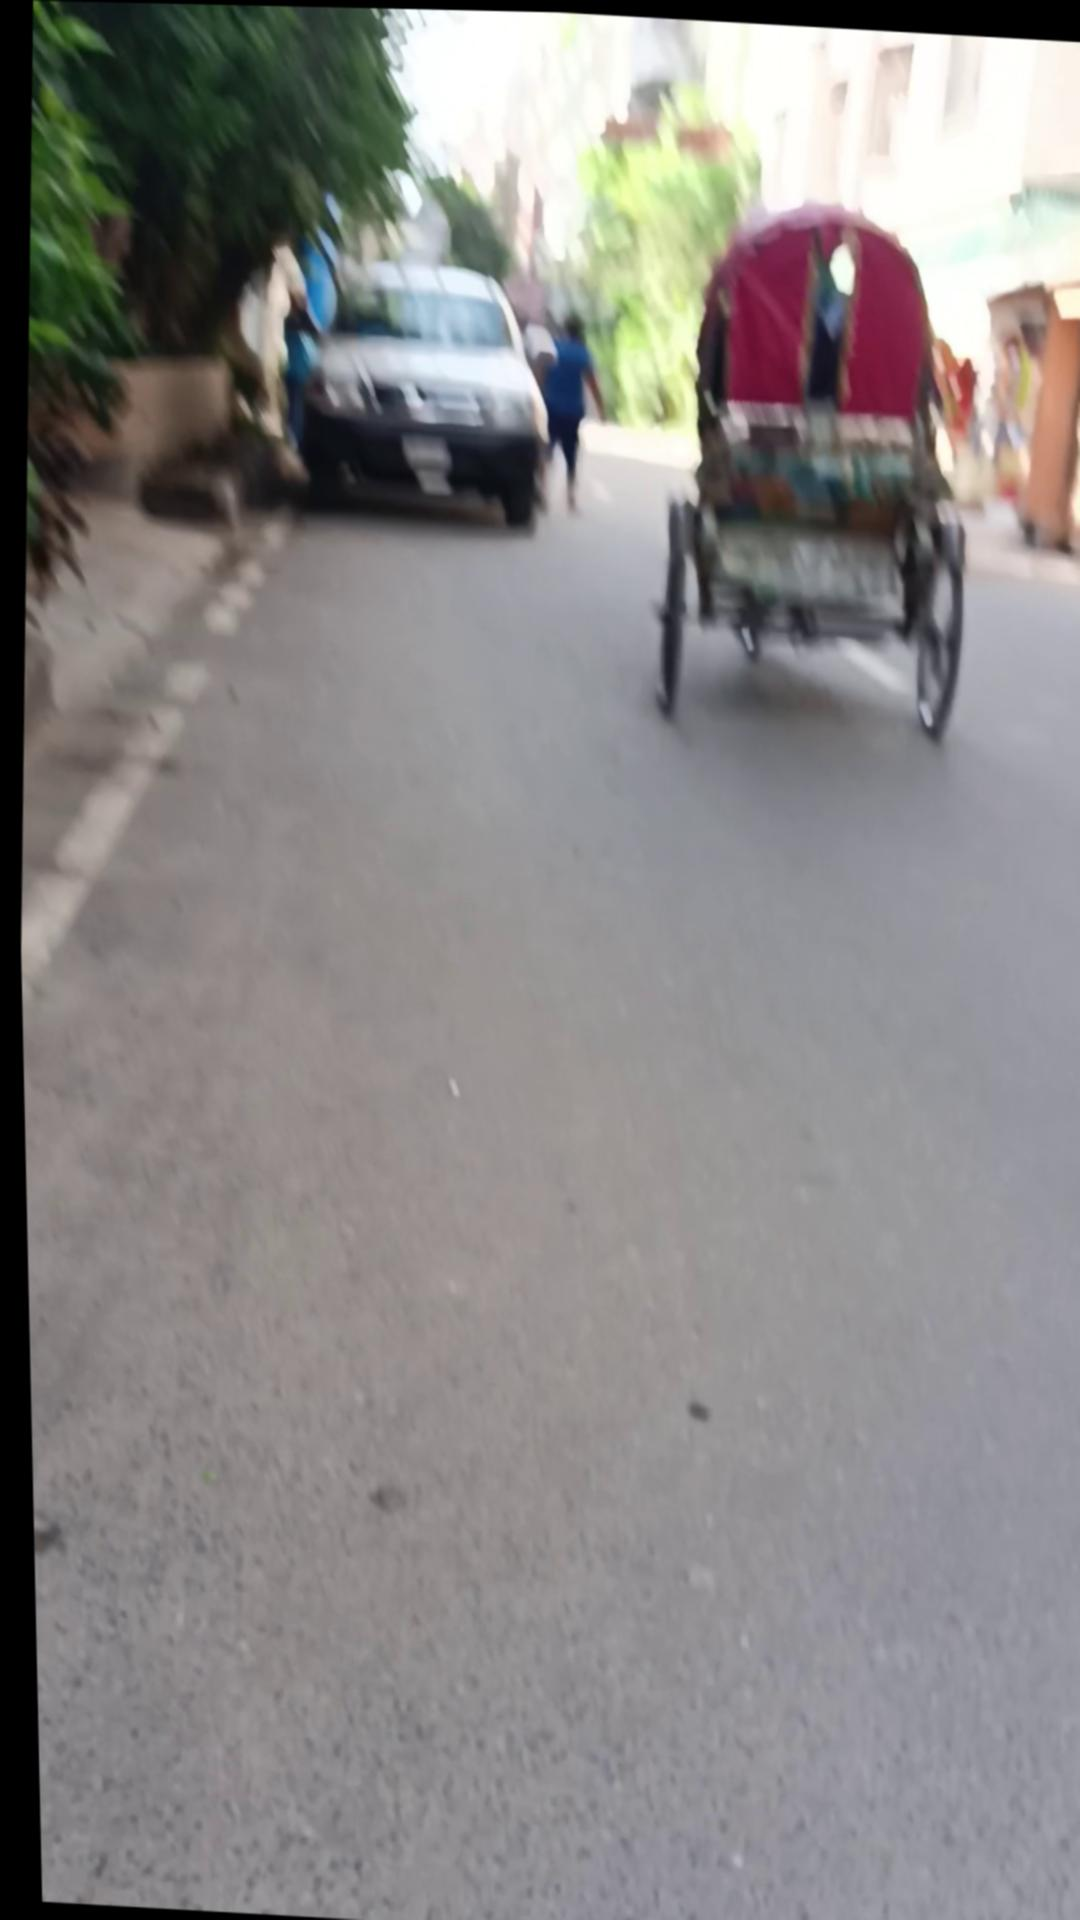Bollard: (282, 249, 559, 529)
Broken-road: (16, 381, 270, 708)
Curb: (530, 306, 609, 510)
Fallen-tree: (17, 0, 440, 521)
Fence: (642, 195, 990, 742)
